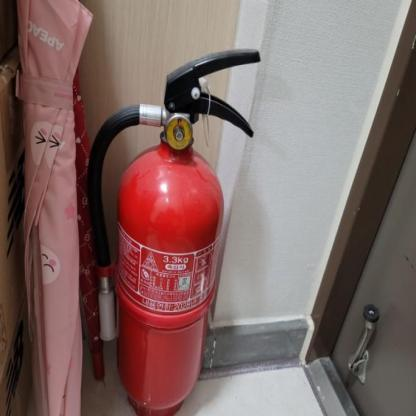Fire Extinguisher: (79, 41, 317, 416)
